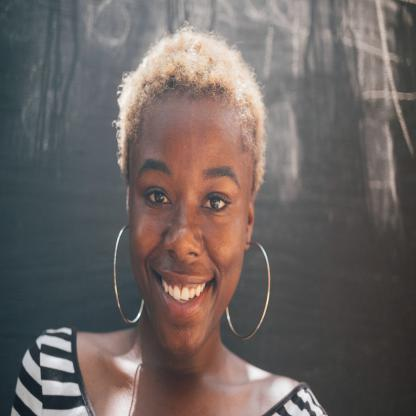Eye: (199, 187, 235, 220), (141, 184, 175, 211)
Mouth: (150, 264, 216, 321)
Nose: (163, 194, 204, 261)
